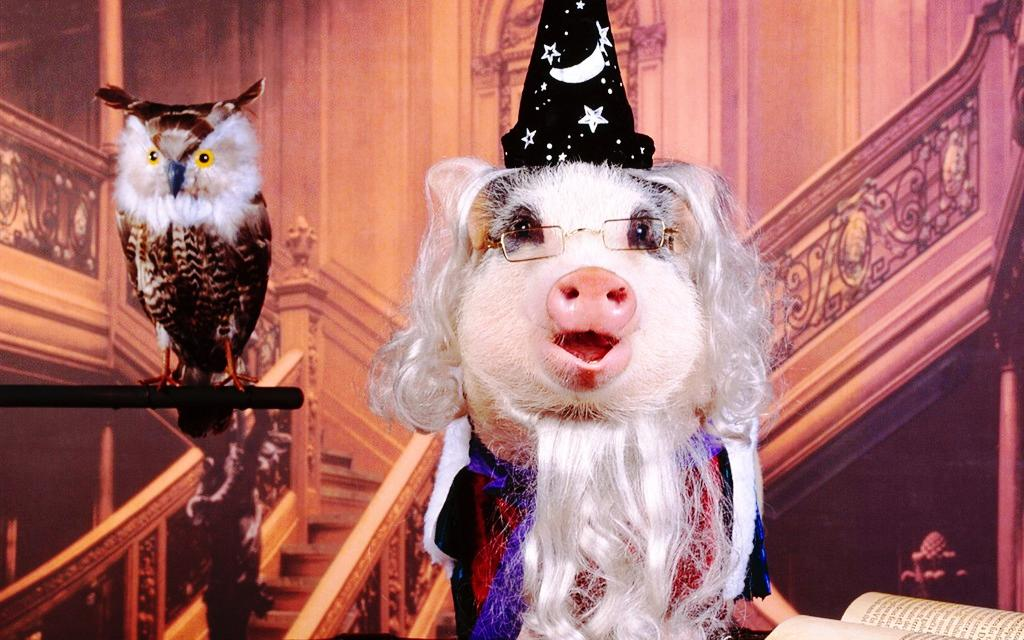Owl: (99, 76, 268, 440)
